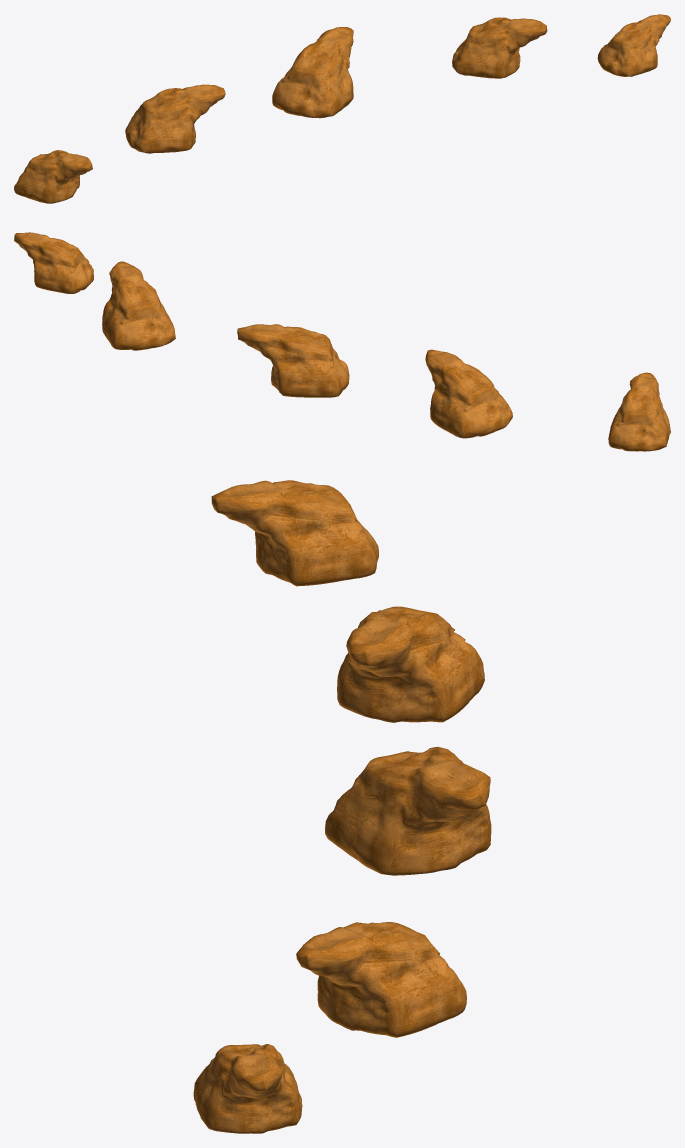
Rendered from sling_rocksB.glb.
3 views of the same model, one above another, from view 1: azimuth 30°, elevation 25°; view 2: azimuth 150°, elevation 25°; view 3: azimuth 270°, elevation 25° (orthographic). The views are drawn at different scales.
Parts seen in each view (by area): view 1: Object_2; view 2: Object_2; view 3: Object_2.
Part boxes in pixels (<box>): Object_2: <box>14,14,670,203</box>; Object_2: <box>14,232,670,451</box>; Object_2: <box>193,480,491,1133</box>.
Bounding box in the file's own units: 32.06 × 2.56 × 6.49.
Materials: 1 (1 with a texture image).
